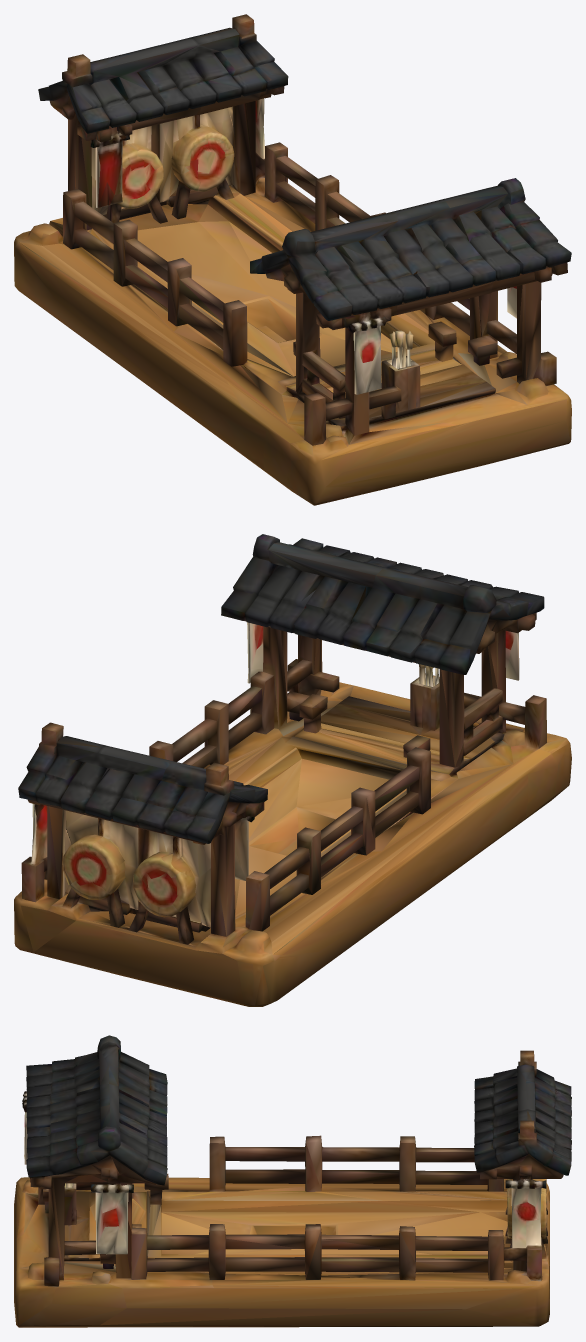
File: range_t2.glb
3 views of the same model, one above another, from view 1: azimuth 30°, elevation 25°; view 2: azimuth 150°, elevation 25°; view 3: azimuth 270°, elevation 25° (orthographic). The views are drawn at different scales.
Parts seen in each view (by area): view 1: tripo_node_435f245c-cf24-4b66-9f28-2e6219e7bc15; view 2: tripo_node_435f245c-cf24-4b66-9f28-2e6219e7bc15; view 3: tripo_node_435f245c-cf24-4b66-9f28-2e6219e7bc15.
Boxes of the visible parts, box(x1,y1,x2,y2) form: tripo_node_435f245c-cf24-4b66-9f28-2e6219e7bc15: box(14, 14, 571, 505); tripo_node_435f245c-cf24-4b66-9f28-2e6219e7bc15: box(14, 534, 571, 1006); tripo_node_435f245c-cf24-4b66-9f28-2e6219e7bc15: box(14, 1035, 571, 1327).
Size of the model in its own units: 0.474 by 0.386 by 0.9805.
1 material, 1 textured.
